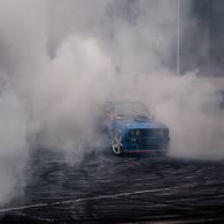smoke: (1, 1, 167, 160)
